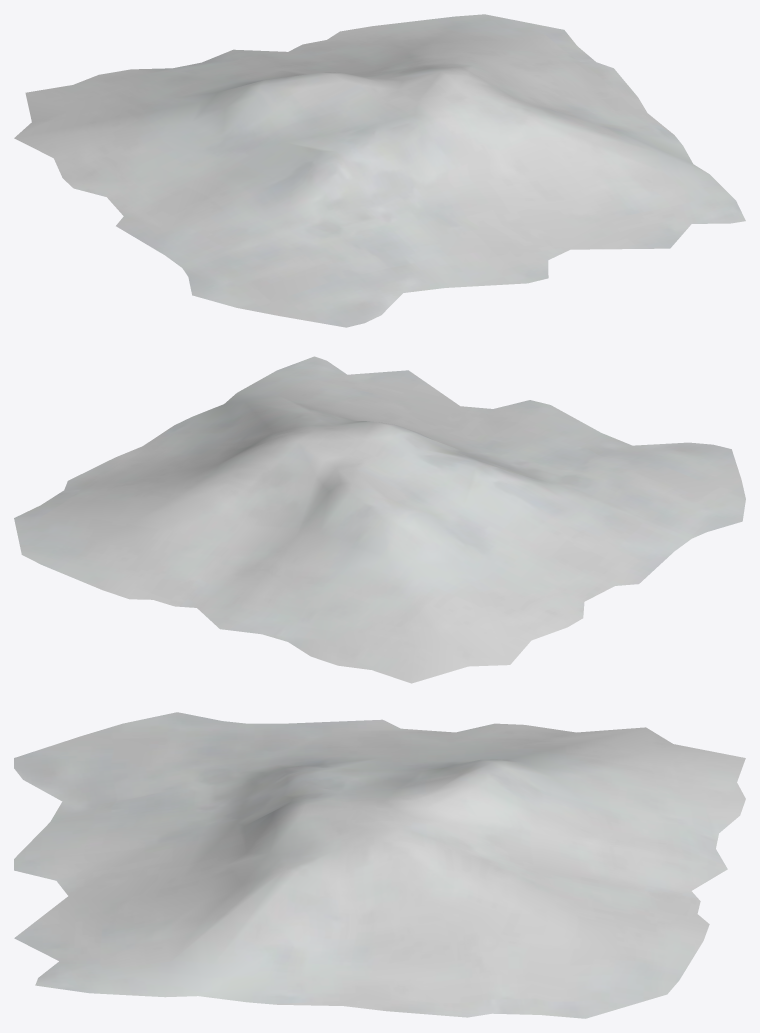
Rendered from snow_mound_c.glb.
3 views of the same model, one above another, from view 1: azimuth 30°, elevation 25°; view 2: azimuth 150°, elevation 25°; view 3: azimuth 270°, elevation 25° (orthographic). The views are drawn at different scales.
Visible parts, largest first — view 1: snow_mound_c_LOD0; view 2: snow_mound_c_LOD0; view 3: snow_mound_c_LOD0.
Boxes of the visible parts, x1,y1,x2,y2 form: snow_mound_c_LOD0: (14,14,745,327); snow_mound_c_LOD0: (14,356,745,683); snow_mound_c_LOD0: (14,712,745,1018).
Size of the model in its own units: 5.27 by 0.6175 by 5.32.
Materials: 1 (1 with a texture image).
